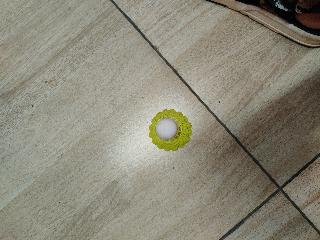shuttlecock: (147, 108, 191, 150)
